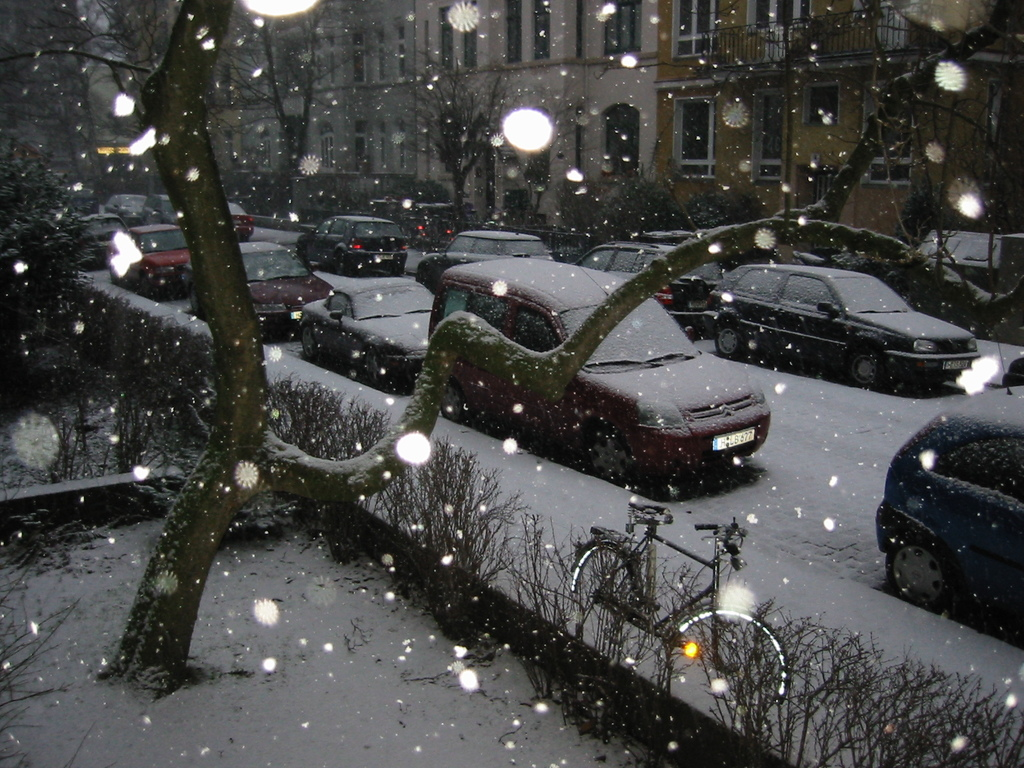car: (421, 235, 794, 508), (703, 250, 1000, 401), (288, 266, 447, 389), (574, 223, 725, 330), (289, 194, 413, 282)
